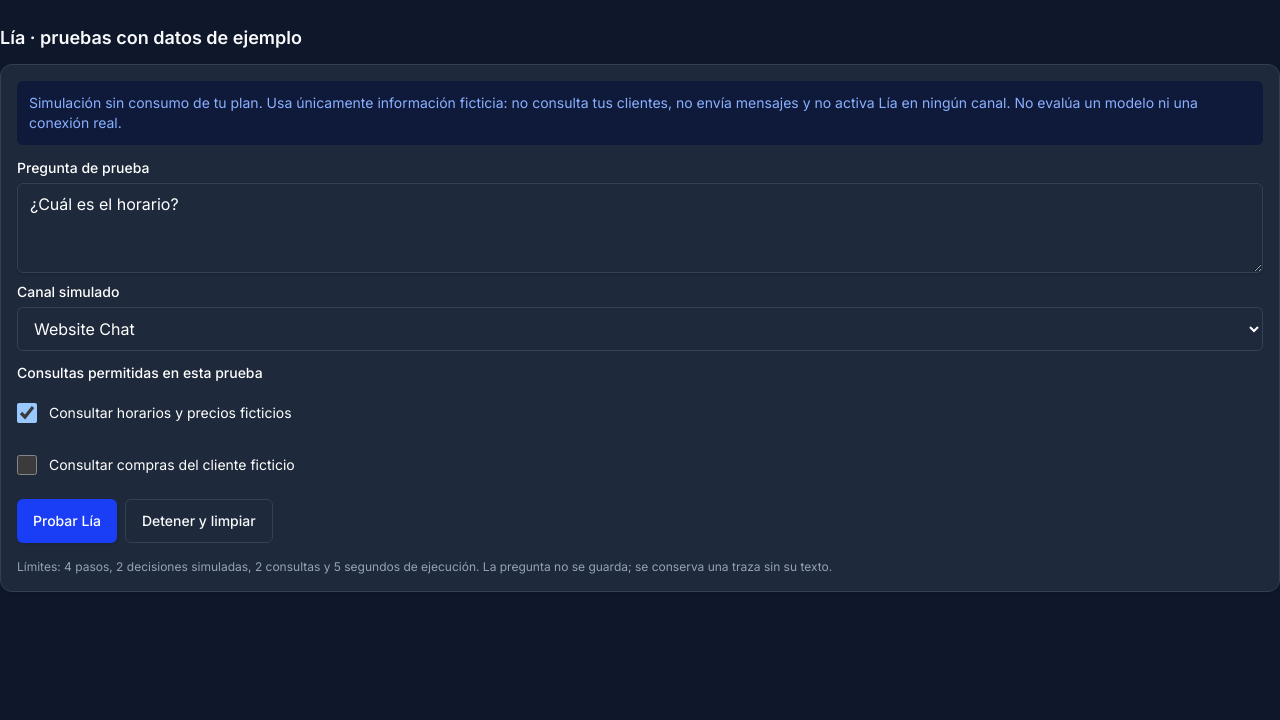
Test: Mark sandbox interaction and stale response protection › labels synthetic data honestly and submits only simulation permissions
The image size is (1280, 720).
Expected: the text "No evalúa un modelo ni una conexión real" is shown, x1=29 y1=94 x2=1198 y2=131
What coordinates should you click on to do the following:
click the checkbox labelled "Consultar compras del cliente ficticio"
I would click on:
 (27, 465)
Its box is x1=17 y1=455 x2=37 y2=475.
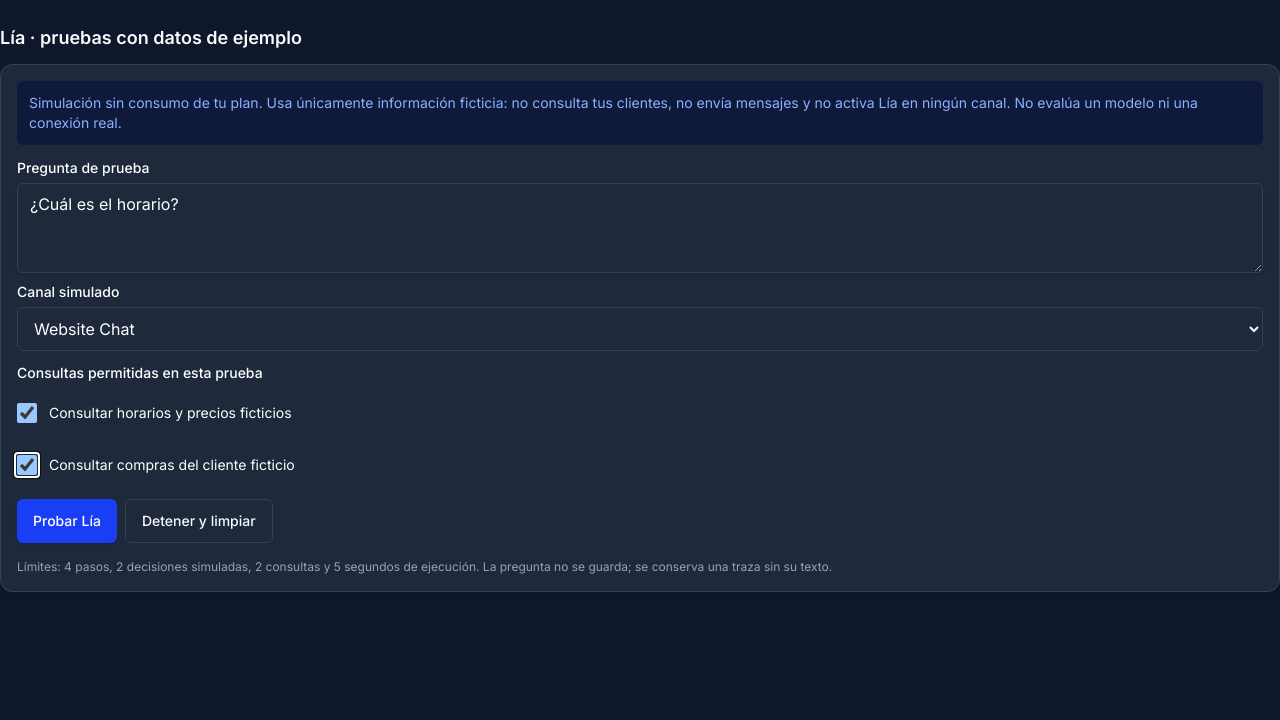
What coordinates should you click on to do the following:
click the button "Probar Lía"
I would click on:
 (67, 521)
Its box is x1=17 y1=499 x2=117 y2=543.
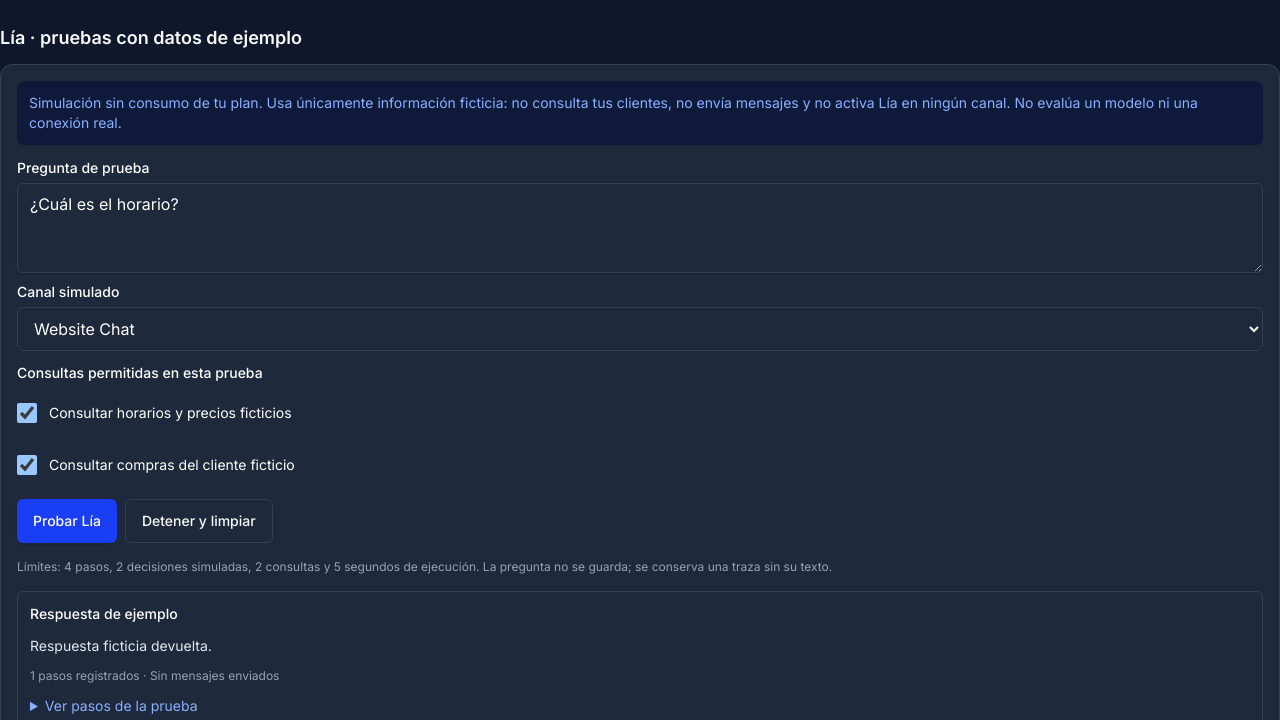
Now the text "Respuesta ficticia devuelta." is shown, box x1=30 y1=637 x2=212 y2=654
Now the text "1 pasos registrados · Sin mensajes enviados" is shown, box x1=30 y1=668 x2=279 y2=683
